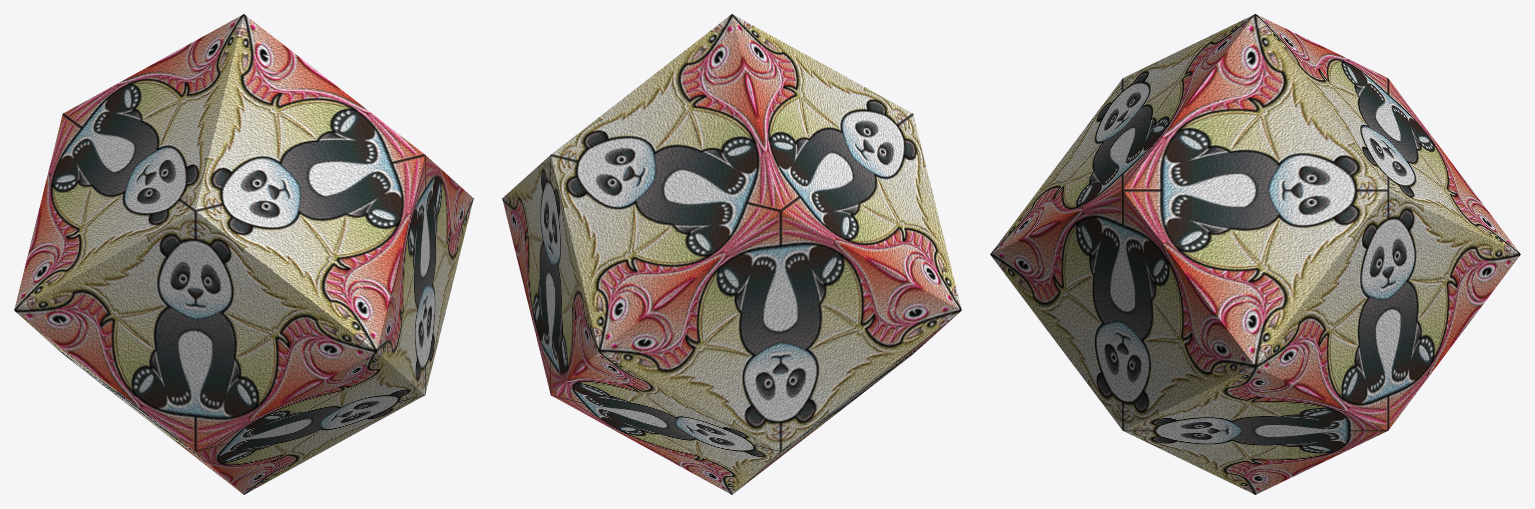
The model's file is RhombicDodecahedron12.obj.
3 views of the same model, side by side, from view 1: azimuth 30°, elevation 25°; view 2: azimuth 150°, elevation 25°; view 3: azimuth 270°, elevation 25° (orthographic).
Size of the model in its own units: 2.12 by 2.12 by 2.12.
1 material, 1 textured.
